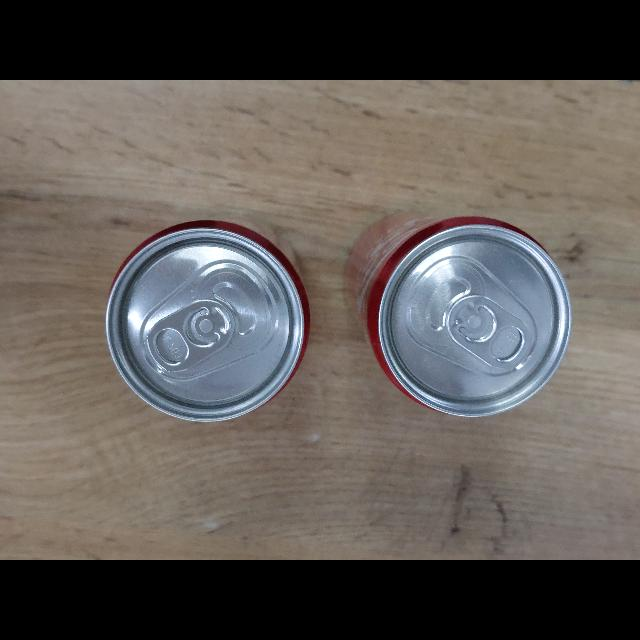coca_cola: (348, 217, 572, 416), (106, 221, 310, 421)
